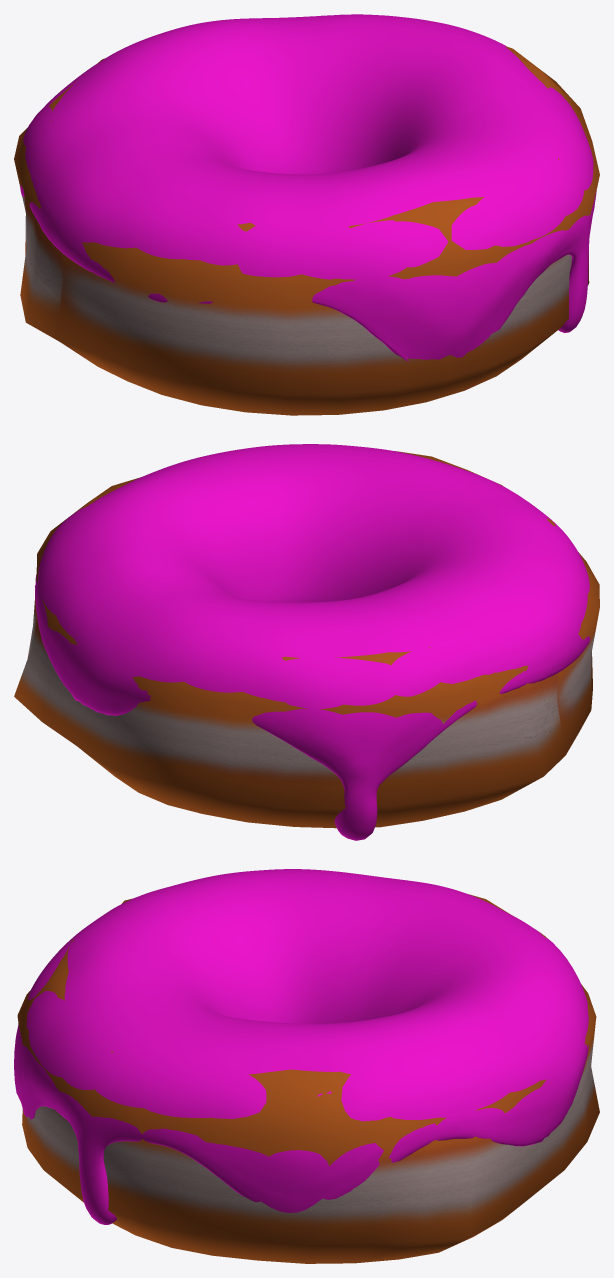
Rendered from donut.glb.
3 views of the same model, one above another, from view 1: azimuth 30°, elevation 25°; view 2: azimuth 150°, elevation 25°; view 3: azimuth 270°, elevation 25° (orthographic). The views are drawn at different scales.
Parts seen in each view (by area): view 1: Icing, Donut; view 2: Icing, Donut; view 3: Icing, Donut.
Boxes of the visible parts, bbox=[...] form: Icing: bbox=[20, 14, 596, 361]; Donut: bbox=[14, 46, 599, 415]; Icing: bbox=[35, 444, 590, 840]; Donut: bbox=[14, 451, 599, 828]; Icing: bbox=[14, 869, 588, 1224]; Donut: bbox=[17, 894, 599, 1263].
Size of what is drawn, in the model's own units: 5.04 by 2.14 by 4.92.
Materials: 2 (1 with a texture image).
